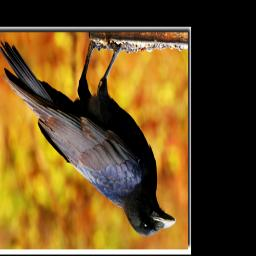Crow: (0, 40, 176, 240)
